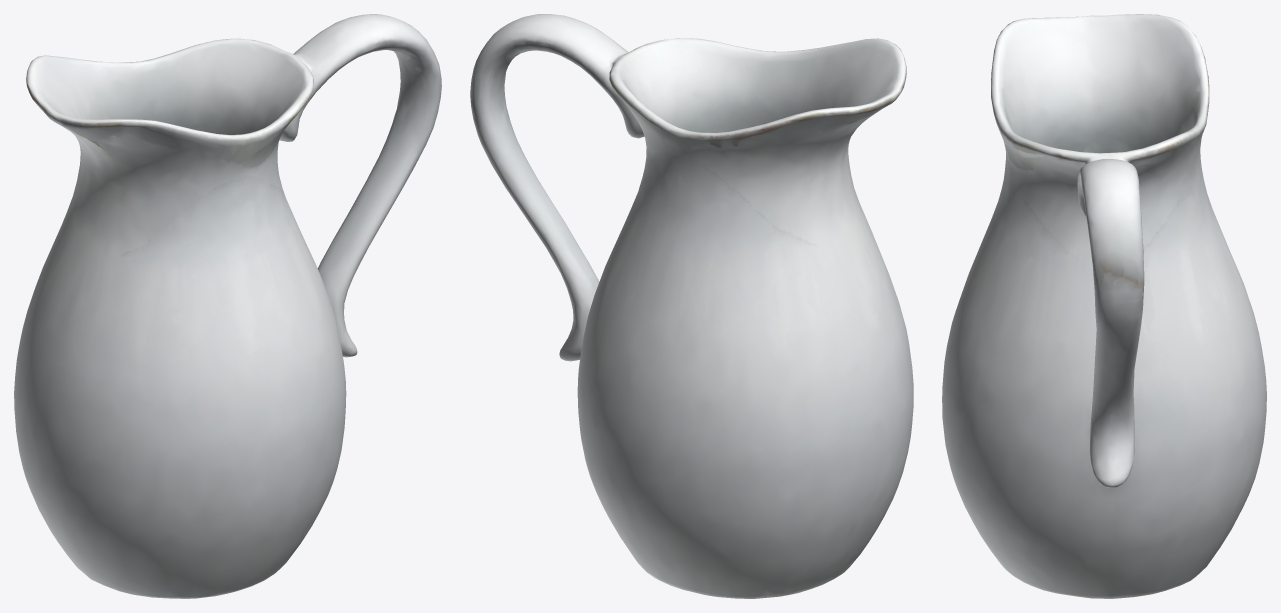
Rendered from Threshold_Porcelain_Pitcher_White.glb.
3 renders of one model, left to right at view 1: azimuth 30°, elevation 25°; view 2: azimuth 150°, elevation 25°; view 3: azimuth 270°, elevation 25°, orthographic. The views are drawn at different scales.
Visible parts, largest first — view 1: Threshold_Porcelain_Pitcher_White; view 2: Threshold_Porcelain_Pitcher_White; view 3: Threshold_Porcelain_Pitcher_White.
Boxes of the visible parts, <box> form: Threshold_Porcelain_Pitcher_White: <box>14,14,441,598</box>; Threshold_Porcelain_Pitcher_White: <box>470,14,913,598</box>; Threshold_Porcelain_Pitcher_White: <box>942,14,1266,598</box>.
Bounding box in the file's own units: 0.2389 × 0.2784 × 0.1688.
Materials: 1 (1 with a texture image).
